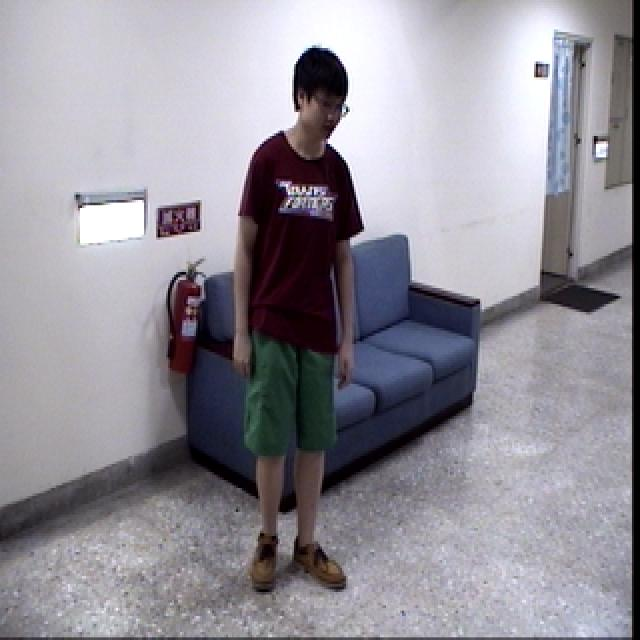stand: (226, 35, 366, 611)
